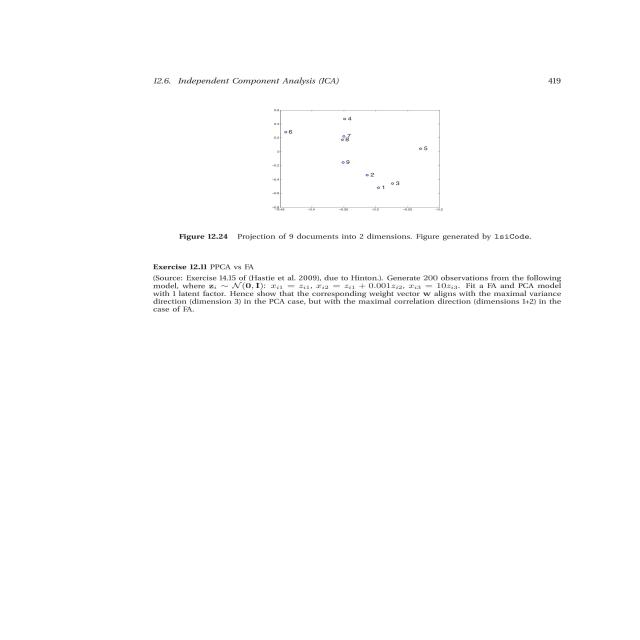diagram: (104, 72, 594, 320)
